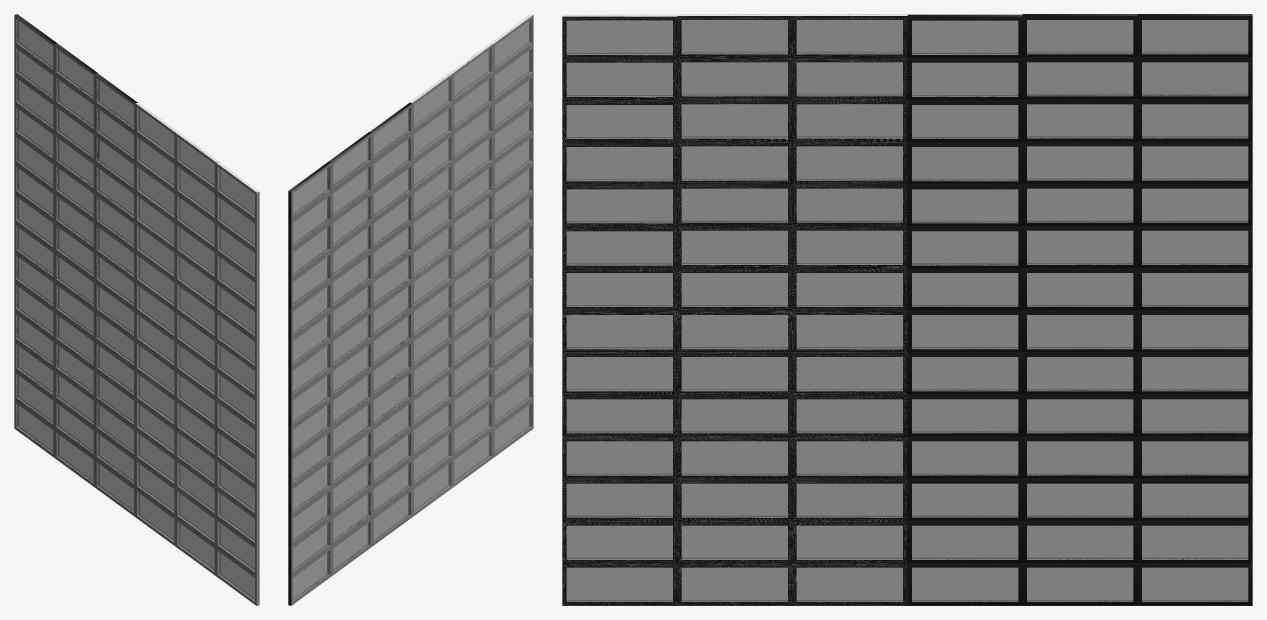
File: Divider.dae
3 views of the same model, side by side, from view 1: azimuth 30°, elevation 25°; view 2: azimuth 150°, elevation 25°; view 3: azimuth 270°, elevation 25° (orthographic). The views are drawn at different scales.
Visible parts, largest first — view 1: janelinha (×168); view 2: janelinha (×168); view 3: janelinha (×168).
Part boxes in pixels (bbox=[...]): janelinha (×168): bbox=[14, 15, 259, 605]; janelinha (×168): bbox=[291, 15, 533, 605]; janelinha (×168): bbox=[562, 16, 1252, 605].
Bounding box in the file's own units: 1.38 × 189 × 179.
